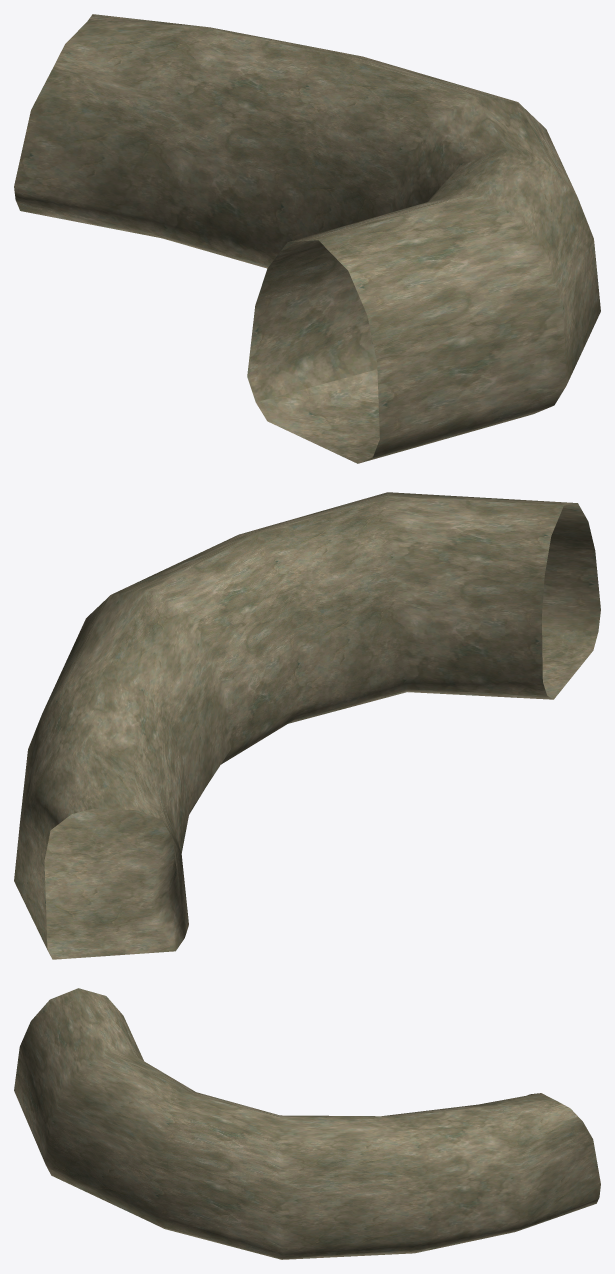
The model's file is OVERHILL_A_01_LINE346.fbx.
The picture shows the model from 3 angles, top to bottom: view 1: azimuth 30°, elevation 25°; view 2: azimuth 150°, elevation 25°; view 3: azimuth 270°, elevation 25°; orthographic projection. The views are drawn at different scales.
Visible parts, largest first — view 1: OVERHILL_A_01_LINE346; view 2: OVERHILL_A_01_LINE346; view 3: OVERHILL_A_01_LINE346.
Part boxes in pixels (x1,y1,x2,y2): OVERHILL_A_01_LINE346: [14, 14, 600, 463]; OVERHILL_A_01_LINE346: [14, 492, 600, 959]; OVERHILL_A_01_LINE346: [14, 988, 600, 1259].
Bounding box in the file's own units: 68515 × 40485 × 129035.
1 material, 1 textured.
